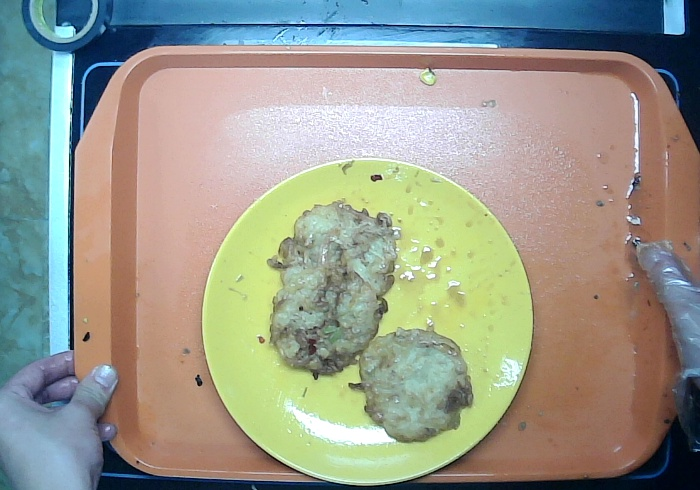HZYJPL-Huang_Se_Yuan_Pan: (187, 134, 539, 487)
